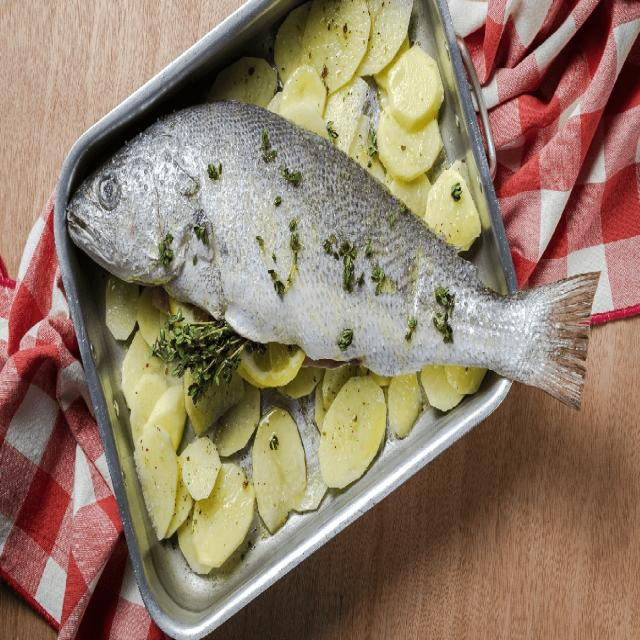pescado: (62, 94, 600, 422)
